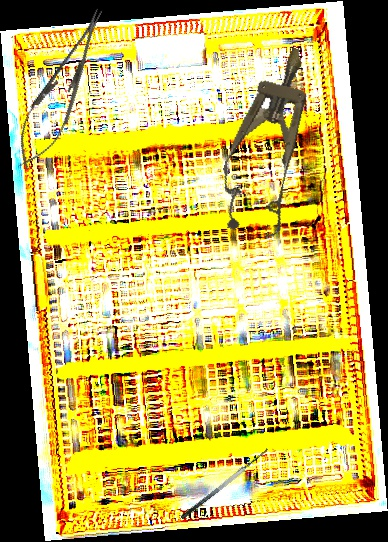Needle Holder: (4, 0, 120, 177)
Spatula Surgical: (174, 442, 272, 521)
Speculum: (208, 38, 332, 243)
